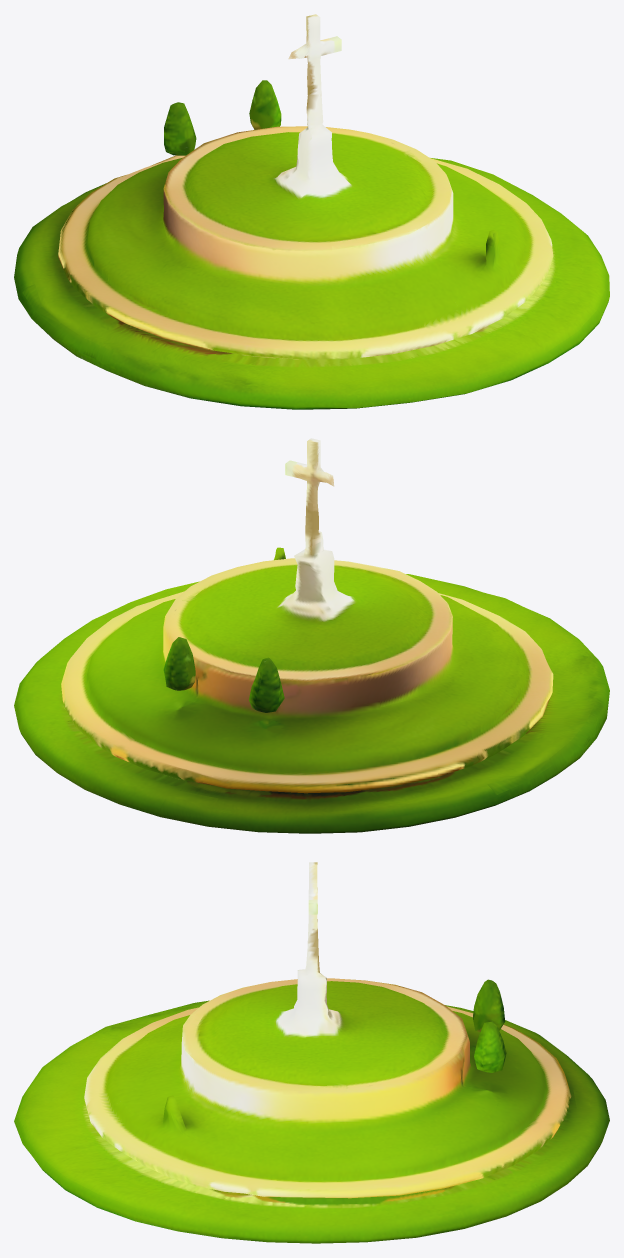
3 renders of one model, top to bottom at view 1: azimuth 30°, elevation 25°; view 2: azimuth 150°, elevation 25°; view 3: azimuth 270°, elevation 25°, orthographic. The views are drawn at different scales.
Visible parts, largest first — view 1: model; view 2: model; view 3: model.
Part boxes in pixels (x1=…): model: x1=14, y1=14, x2=609, y2=409; model: x1=14, y1=438, x2=609, y2=833; model: x1=14, y1=862, x2=609, y2=1243.
Size of the model in its own units: 197 by 100 by 207.
